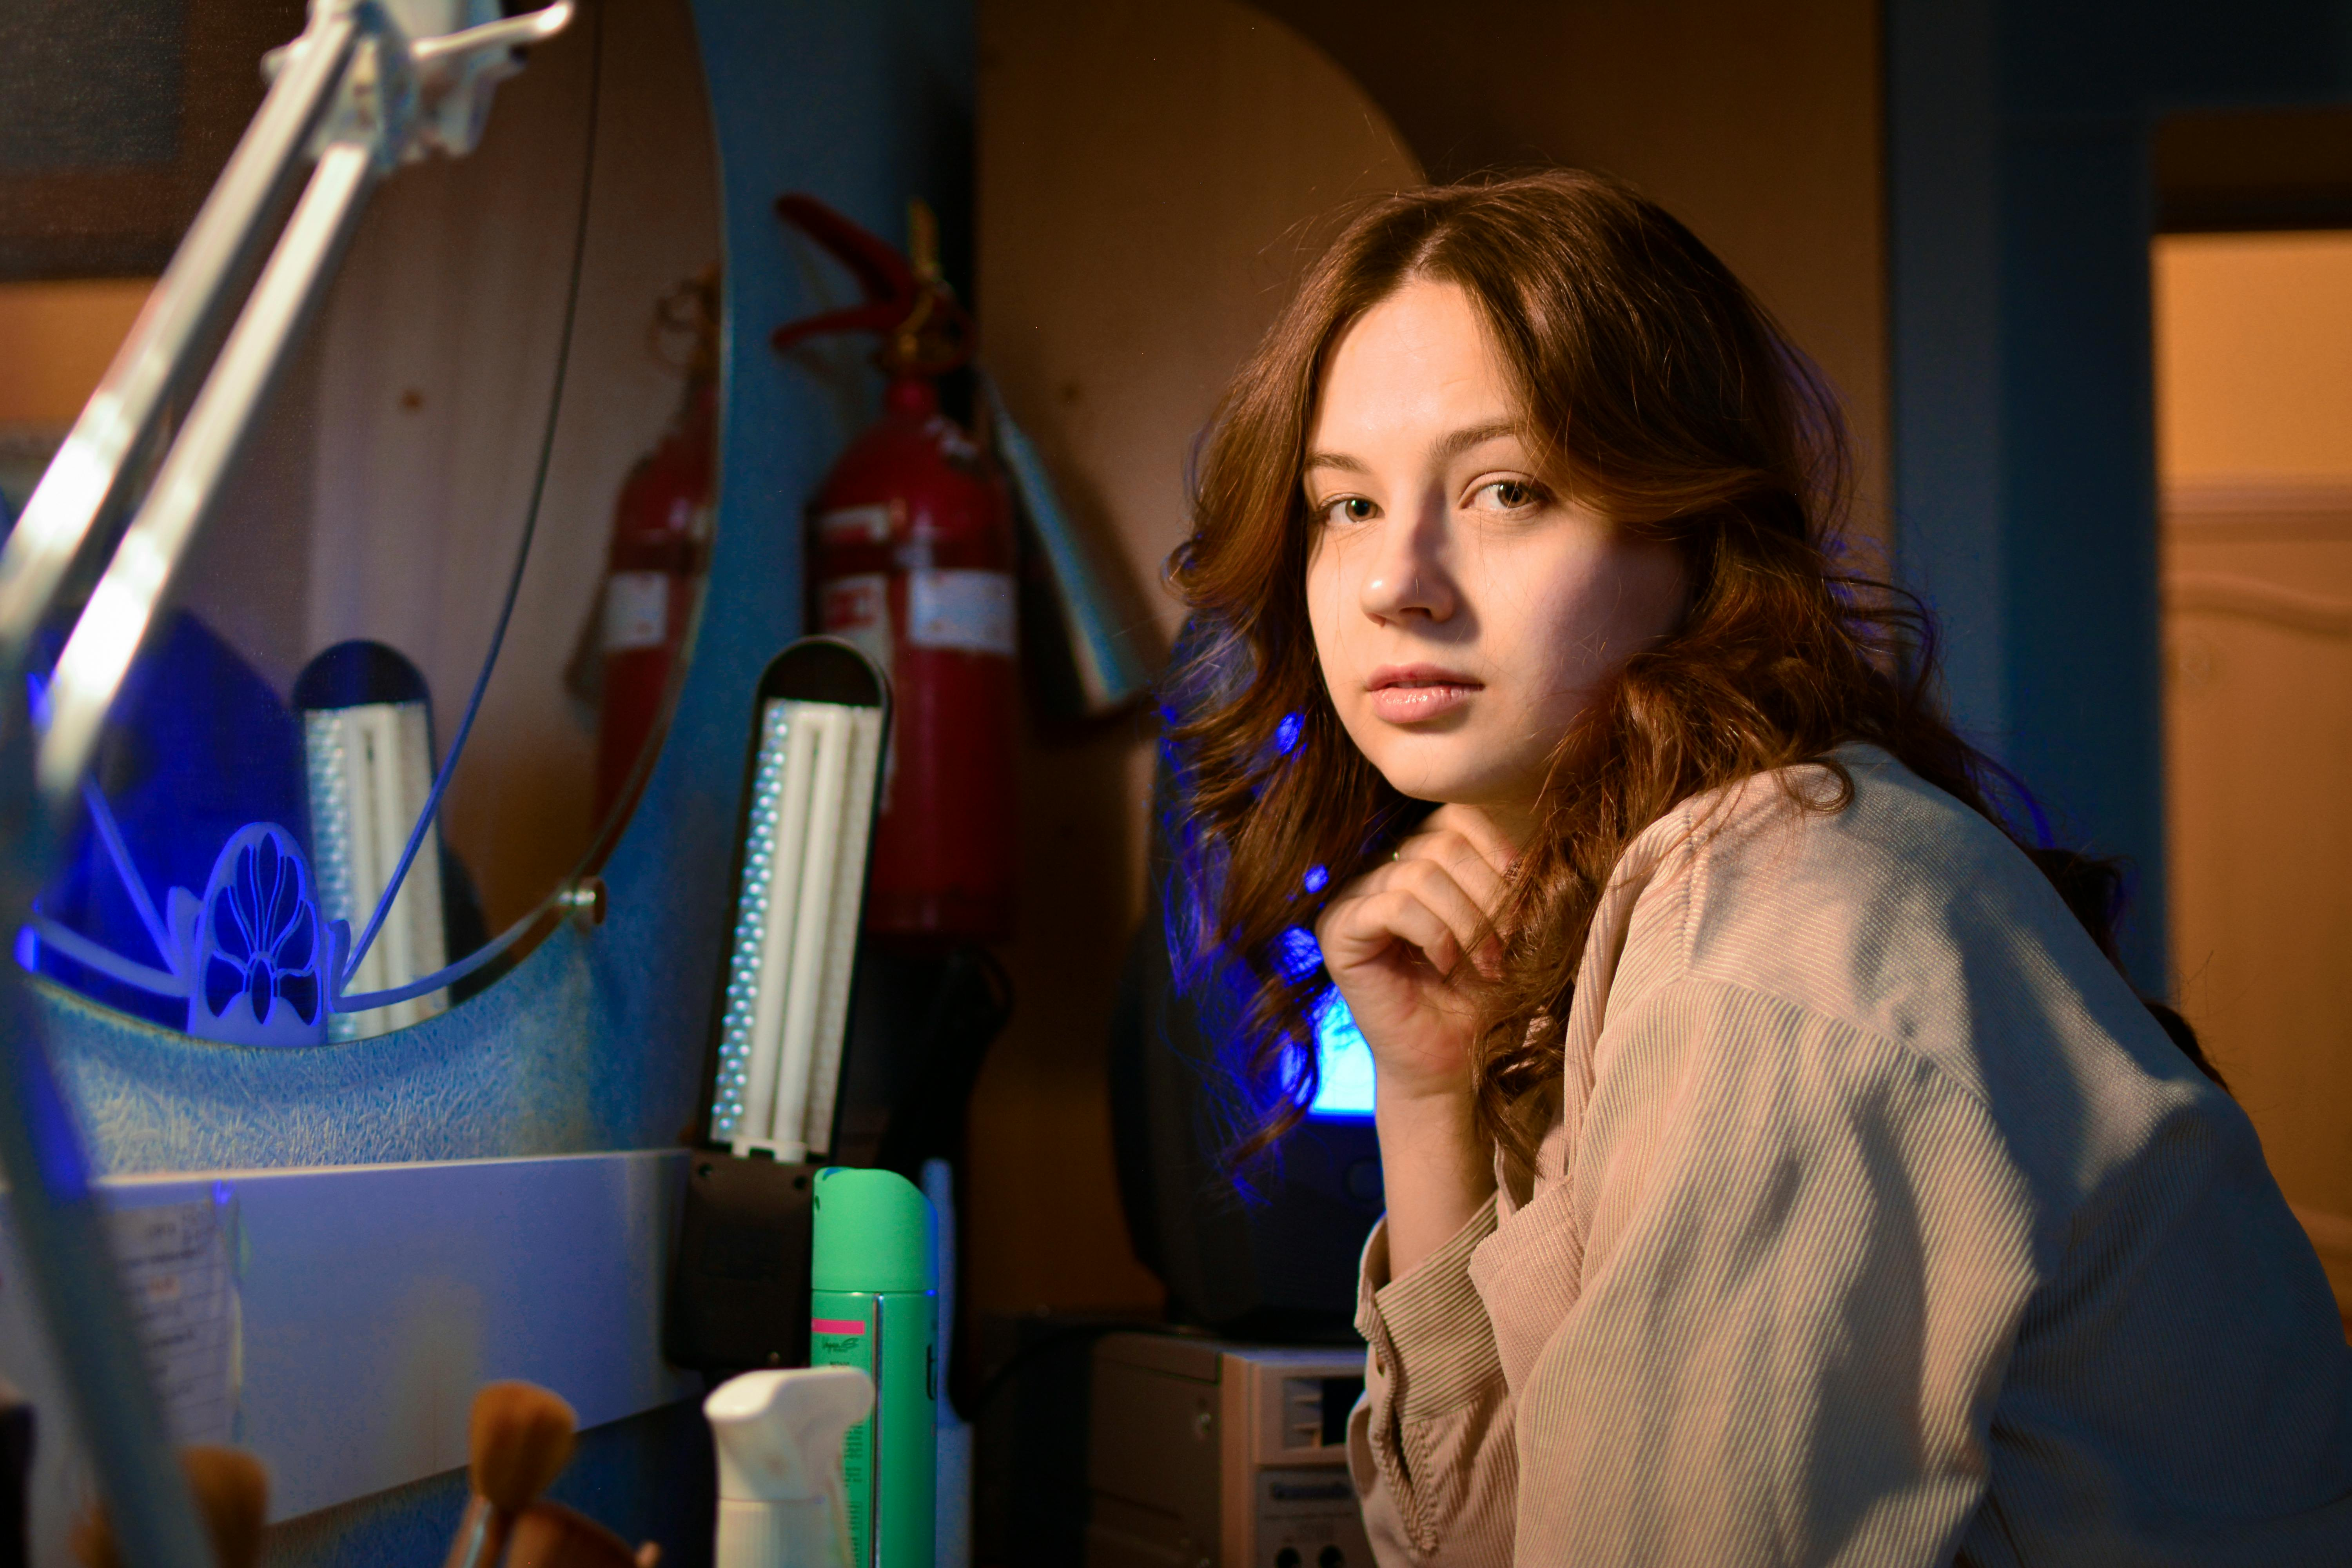extintor: (765, 171, 1024, 950)
